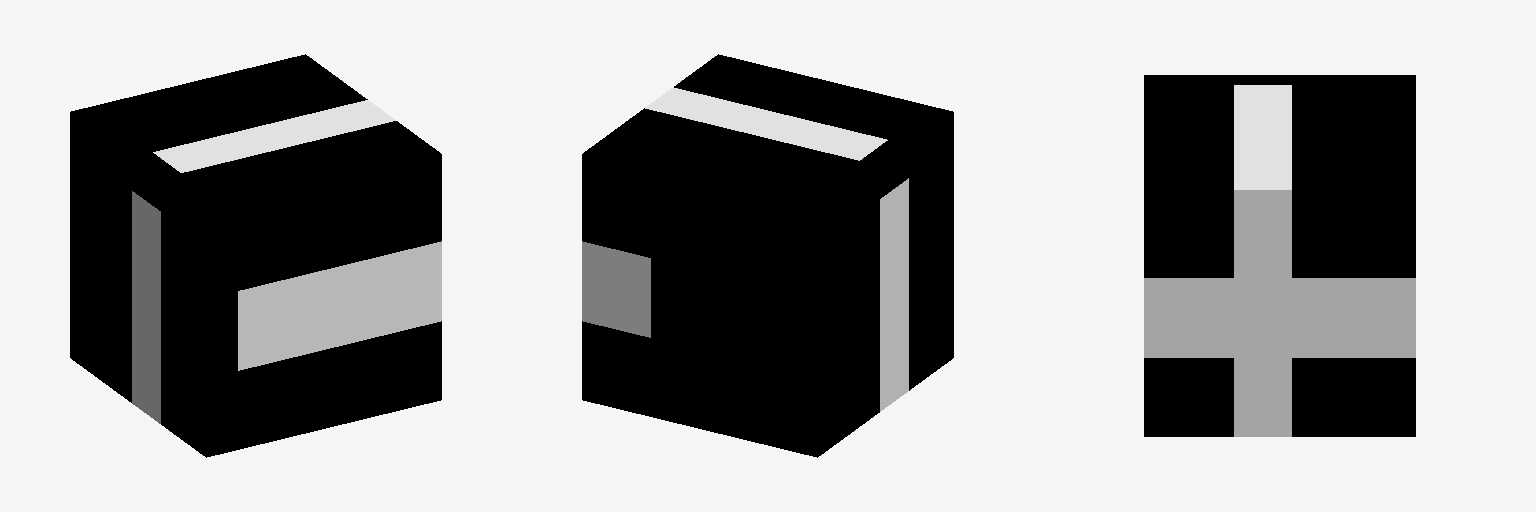
3 views of the same model, side by side, from view 1: azimuth 30°, elevation 25°; view 2: azimuth 150°, elevation 25°; view 3: azimuth 270°, elevation 25° (orthographic).
Visible parts, largest first — view 1: Cube; view 2: Cube; view 3: Cube.
Part boxes in pixels (x1,y1,x2,y2): Cube: (70, 54, 441, 457); Cube: (582, 54, 953, 457); Cube: (1144, 75, 1415, 436).
Size of the model in its own units: 2 by 2 by 2.
1 materials, 1 textured.